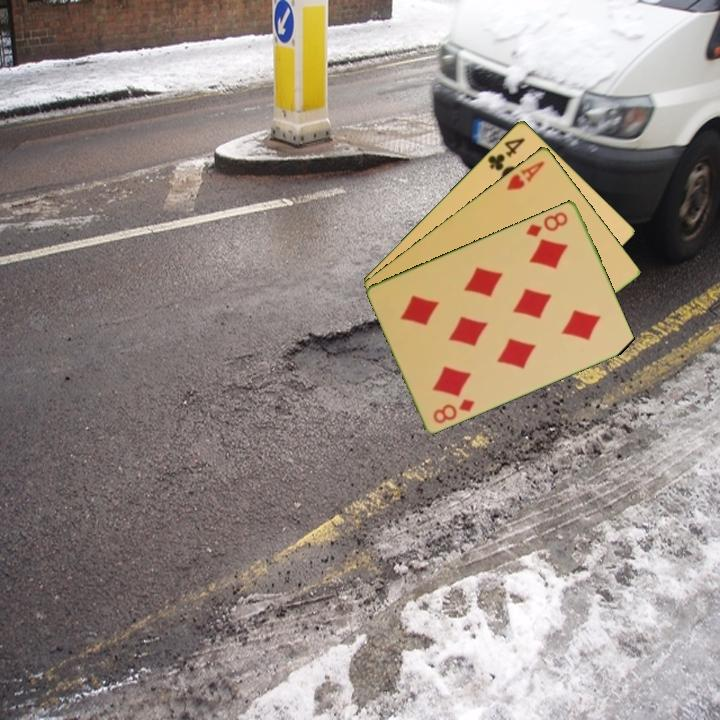4c: (484, 134, 528, 173)
8d: (523, 208, 571, 239), (430, 395, 478, 426)
Ah: (503, 157, 548, 193)
